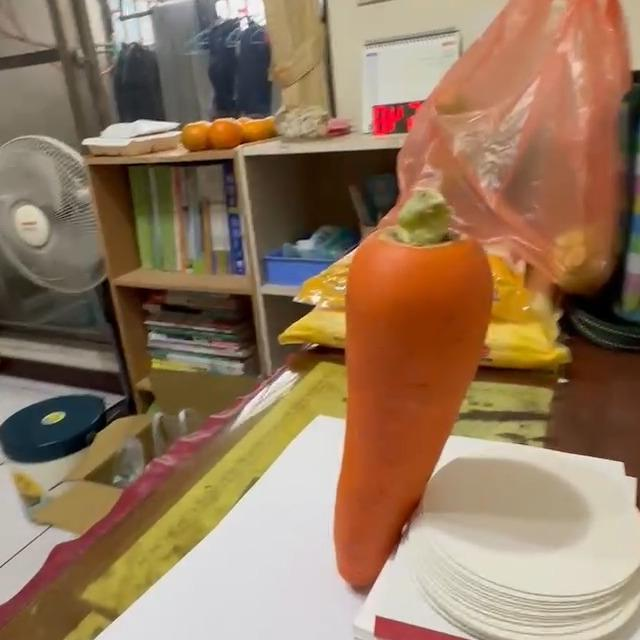carrot: (330, 188, 496, 591)
